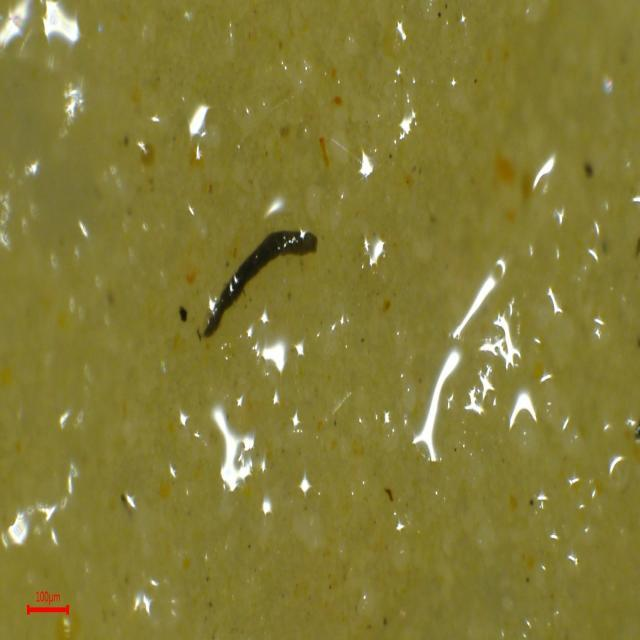fibers: (180, 212, 323, 338)
